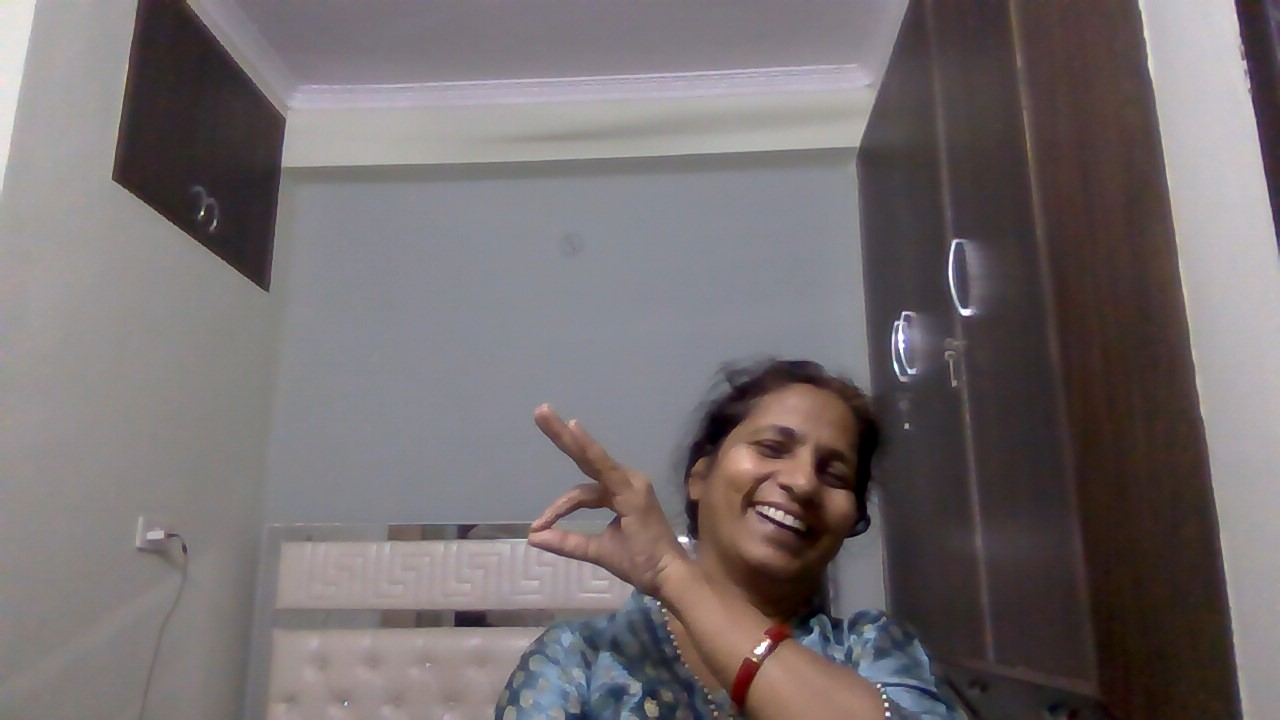Copy: (515, 393, 690, 622)
